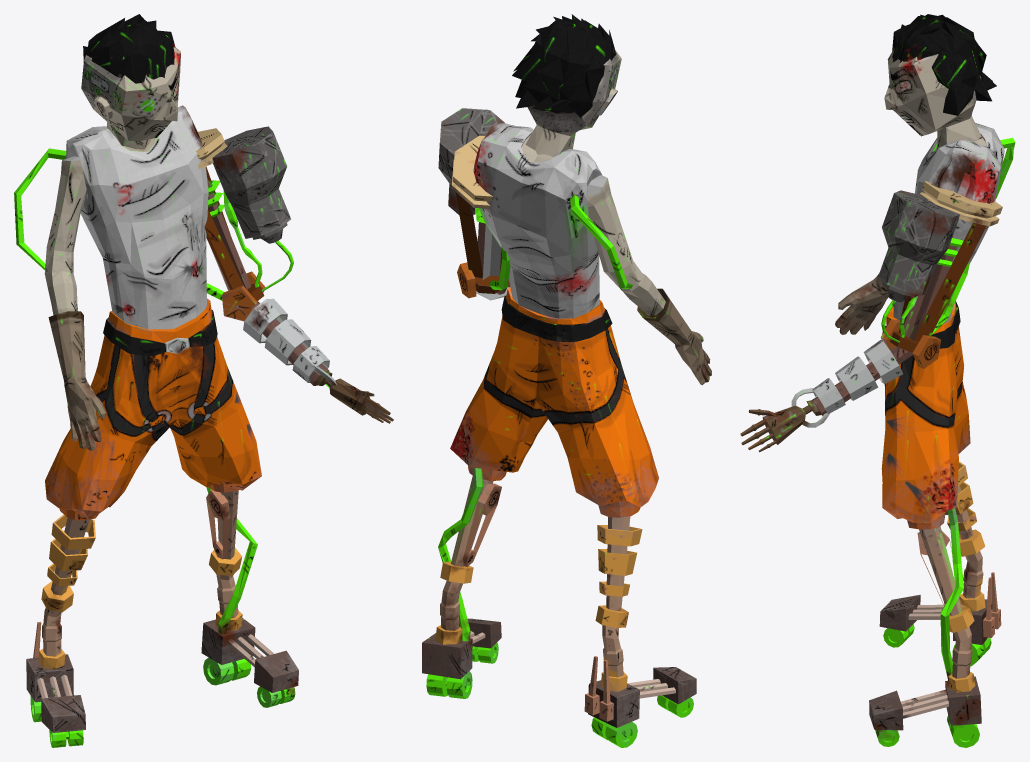
Rendered from CyborgFINALAnimation_000008.obj.
The picture shows the model from 3 angles, left to right: view 1: azimuth 30°, elevation 25°; view 2: azimuth 150°, elevation 25°; view 3: azimuth 270°, elevation 25°; orthographic projection. The views are drawn at different scales.
Parts seen in each view (by area): view 1: CyborgMesh_Cube.002; view 2: CyborgMesh_Cube.002; view 3: CyborgMesh_Cube.002.
Part boxes in pixels (x1,y1,x2,y2): CyborgMesh_Cube.002: (14, 14, 393, 747); CyborgMesh_Cube.002: (422, 14, 711, 747); CyborgMesh_Cube.002: (740, 14, 1015, 747).
Size of the model in its own units: 3.8 by 9.59 by 3.55.
